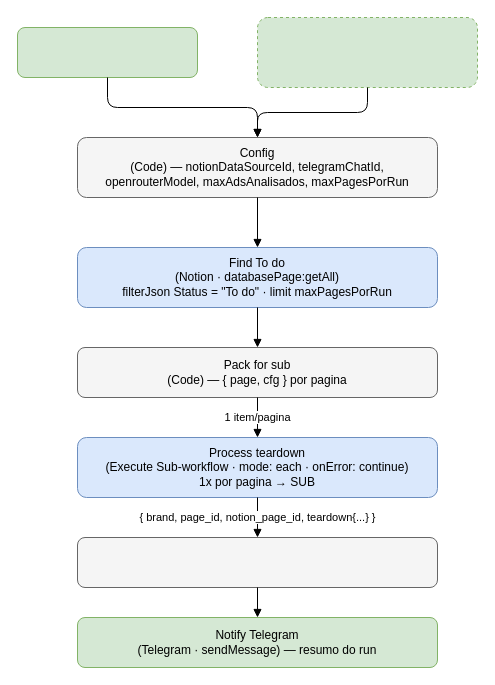
Some shapes in this 495 by 685 pixel diagram are drawn without their labels. Here are the shapes that lost their labels. From the top down, the centre of each, then its label:
(x=107, y=52): Test manually (Manual Trigger)
(x=367, y=52): Every 4h (Schedule · cron 0 */4 * * *) disabled ate validar
(x=257, y=562): Summary (Code) — agrega ok / erro
